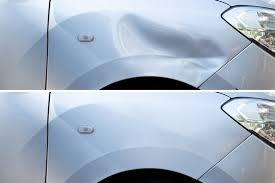dent: (114, 3, 233, 73)
